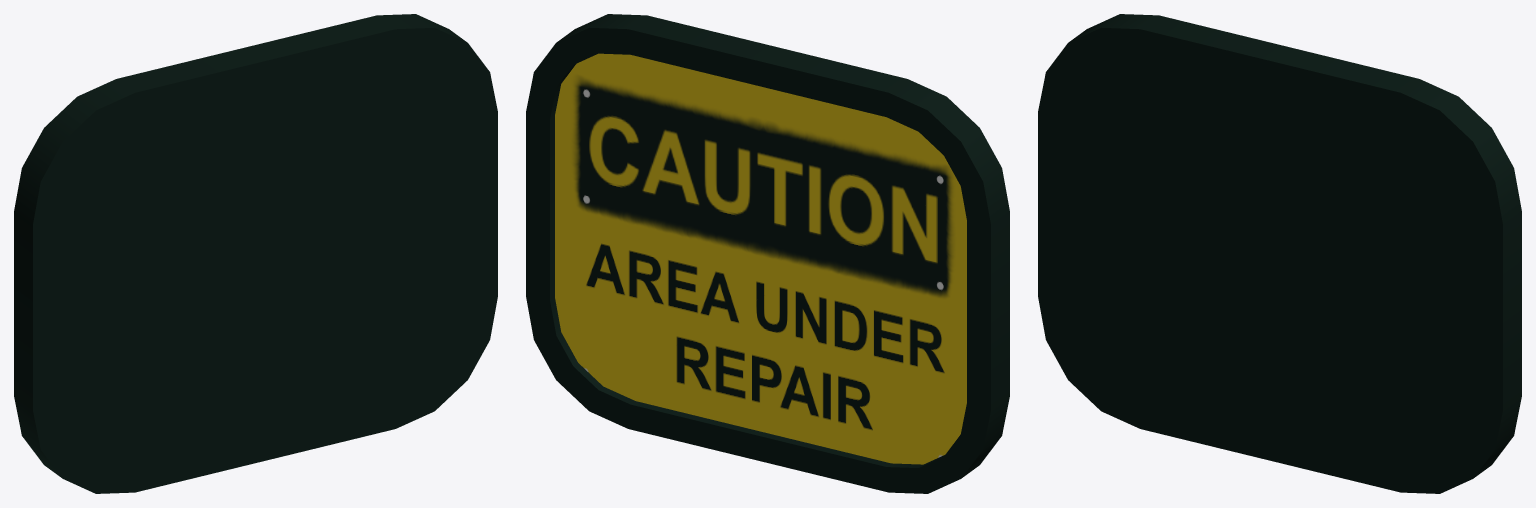
The model's file is billboard.glb.
3 renders of one model, left to right at view 1: azimuth 30°, elevation 25°; view 2: azimuth 150°, elevation 25°; view 3: azimuth 330°, elevation 25°, orthographic.
Parts seen in each view (by area): view 1: billboard; view 2: billboard; view 3: billboard.
Boxes of the visible parts, x1=… form: billboard: x1=14, y1=14, x2=497, y2=493; billboard: x1=526, y1=14, x2=1009, y2=493; billboard: x1=1038, y1=14, x2=1521, y2=493.
Bounding box in the file's own units: 0.818 × 0.6722 × 0.0575.
1 material, 1 textured.
